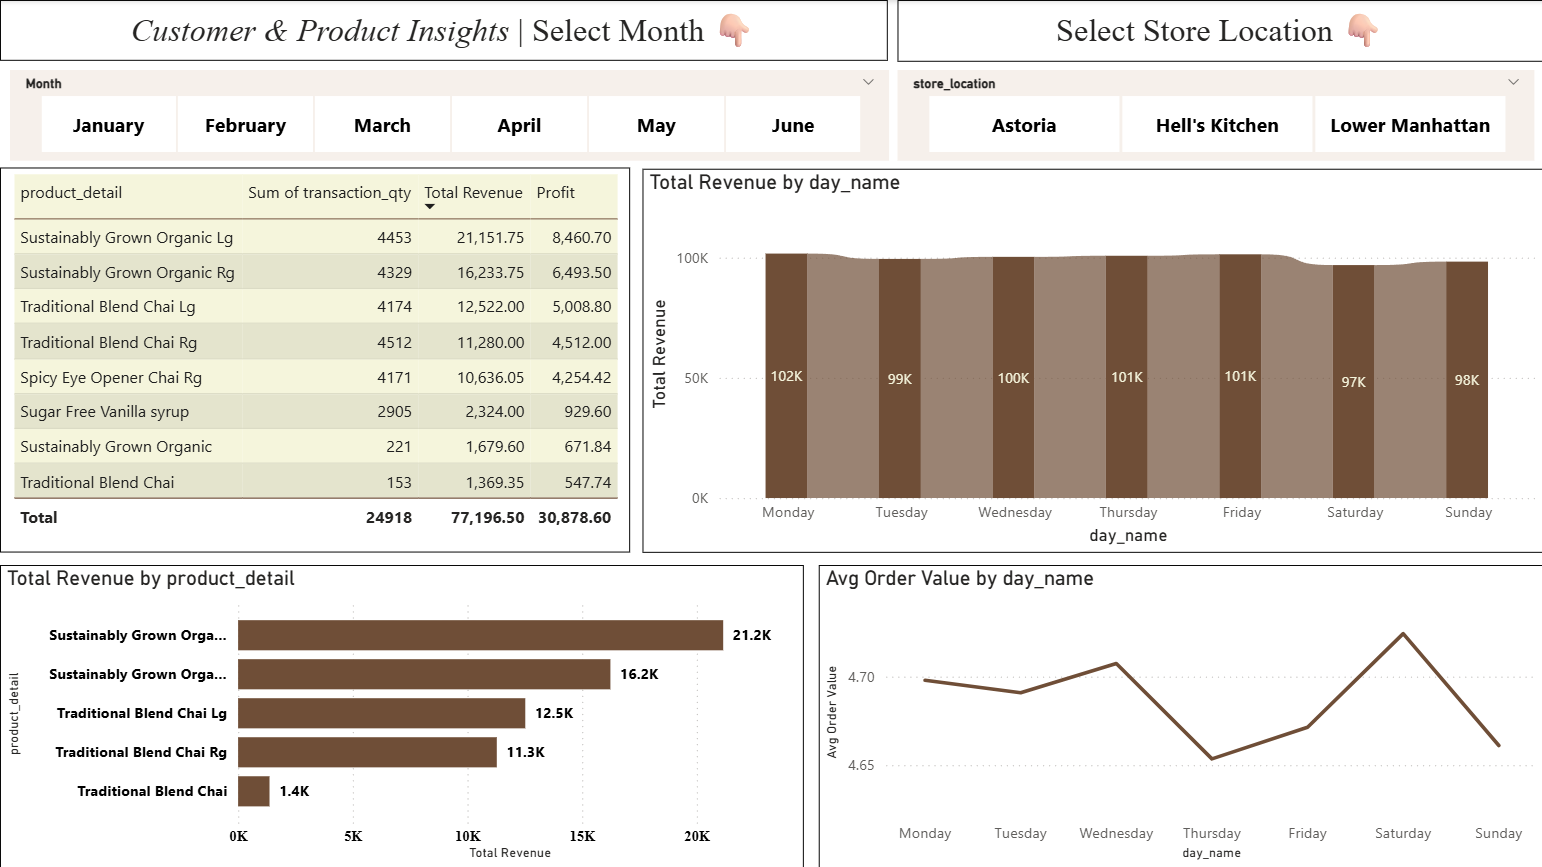

The page's visual inventory and layout, read from the dashboard file:
{"tool":"powerbi","page":{"name":"Page 2","canvas":[1280,720],"ordinal":1},"visuals":[{"type":"slicer","fields":{"Values":["CoffeeShopSales_cleaned.Month"]},"box":[7.8,58.1,729.2,74.8],"z":0},{"type":"slicer","fields":{"Values":["CoffeeShopSales_cleaned.store_location"]},"box":[743.7,58.1,528.2,74.8],"z":1000},{"type":"tableEx","fields":{"Values":["CoffeeShopSales_cleaned.product_detail","Sum(CoffeeShopSales_cleaned.transaction_qty)","CoffeeShopSales_cleaned.Total Revenue","CoffeeShopSales_cleaned.Profit"]},"box":[0,139.2,522.8,319.4],"z":2000},{"type":"textbox","box":[0,0,736,50],"z":3000},{"type":"textbox","box":[744.2,0,536,51.2],"z":4000},{"type":"ribbonChart","fields":{"Y":["CoffeeShopSales_cleaned.Total Revenue"],"Category":["Day Table.day_name"]},"box":[532.4,140.3,747.9,318.2],"z":5000},{"type":"clusteredBarChart","fields":{"Category":["CoffeeShopSales_cleaned.product_detail"],"Y":["CoffeeShopSales_cleaned.Total Revenue"]},"box":[0,468.2,666.1,251.1],"z":6000},{"type":"lineChart","fields":{"Category":["Day Table.day_name"],"Y":["CoffeeShopSales_cleaned.Avg Order Value"]},"box":[678.4,468.2,601.9,251.1],"z":7000}]}

Visuals, with their boxes in screenshot pixels (x1, y1, x2, y2), scaled from the page's 1280x720 canvas onto the 1542x867 screenshot:
slicer - CoffeeShopSales_cleaned.Month: {"left": 9, "top": 70, "right": 888, "bottom": 160}
slicer - CoffeeShopSales_cleaned.store_location: {"left": 896, "top": 70, "right": 1532, "bottom": 160}
tableEx - CoffeeShopSales_cleaned.product_detail x Sum(CoffeeShopSales_cleaned.transaction_qty): {"left": 0, "top": 168, "right": 630, "bottom": 552}
textbox: {"left": 0, "top": 0, "right": 887, "bottom": 60}
textbox: {"left": 897, "top": 0, "right": 1541, "bottom": 62}
ribbonChart - CoffeeShopSales_cleaned.Total Revenue x Day Table.day_name: {"left": 641, "top": 169, "right": 1541, "bottom": 552}
clusteredBarChart - CoffeeShopSales_cleaned.product_detail x CoffeeShopSales_cleaned.Total Revenue: {"left": 0, "top": 564, "right": 802, "bottom": 866}
lineChart - Day Table.day_name x CoffeeShopSales_cleaned.Avg Order Value: {"left": 817, "top": 564, "right": 1541, "bottom": 866}
